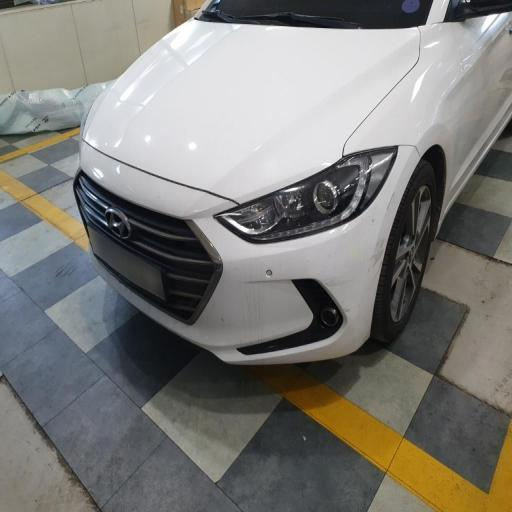scratch: (268, 75, 421, 295)
